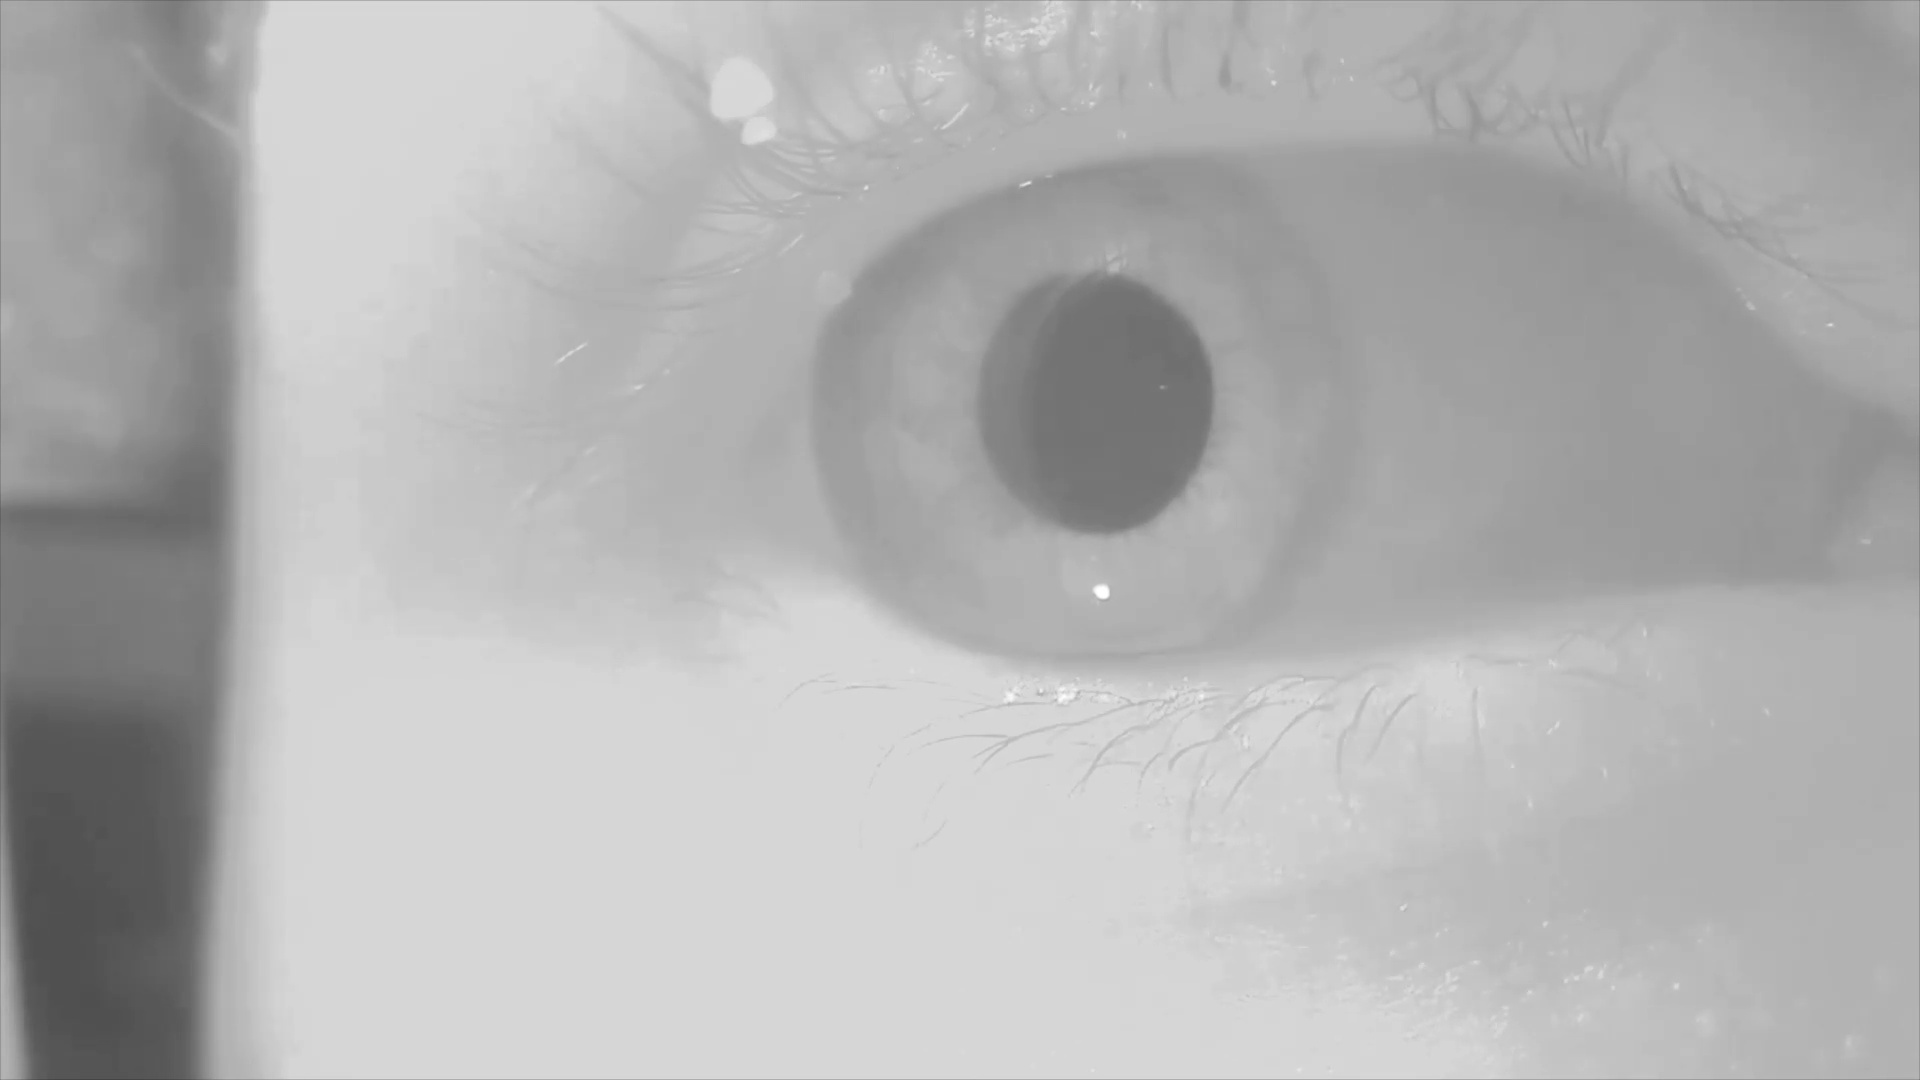pupil: (976, 273, 1213, 538)
